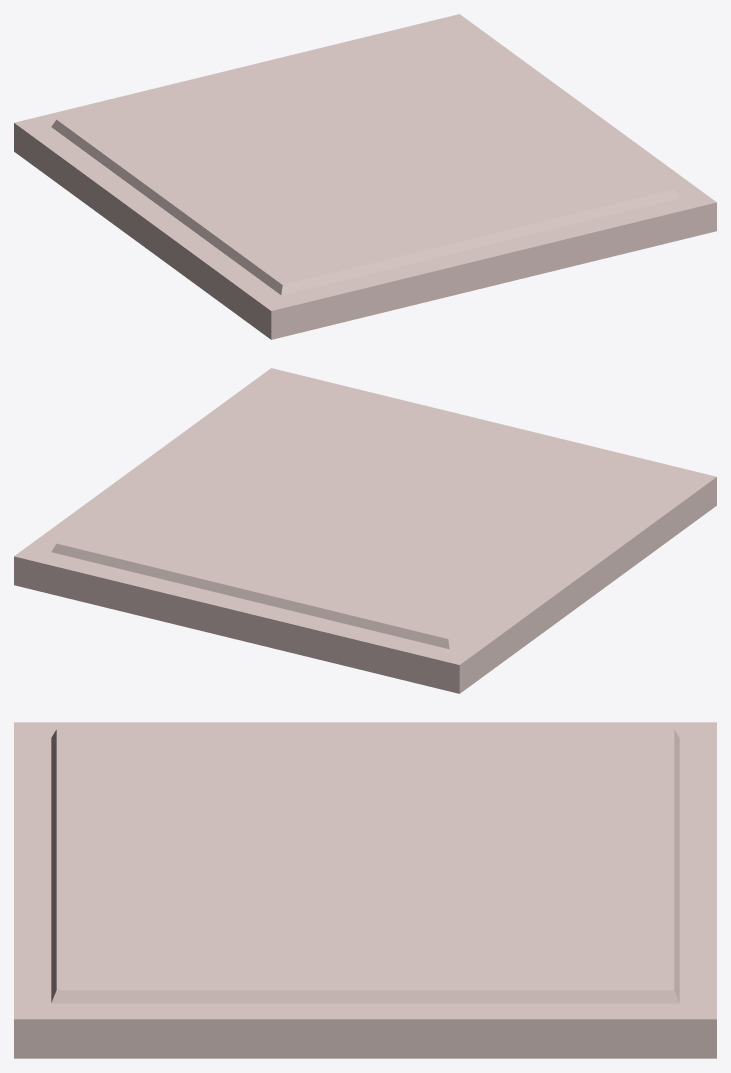
The model's file is Floor.fbx.
3 views of the same model, one above another, from view 1: azimuth 30°, elevation 25°; view 2: azimuth 150°, elevation 25°; view 3: azimuth 270°, elevation 25° (orthographic). The views are drawn at different scales.
Parts seen in each view (by area): view 1: Floor; view 2: Floor; view 3: Floor.
Part boxes in pixels (x1,y1,x2,y2): Floor: [14, 14, 716, 339]; Floor: [14, 368, 716, 693]; Floor: [14, 722, 716, 1058].
Size of the model in its own units: 300 by 23.69 by 300.
